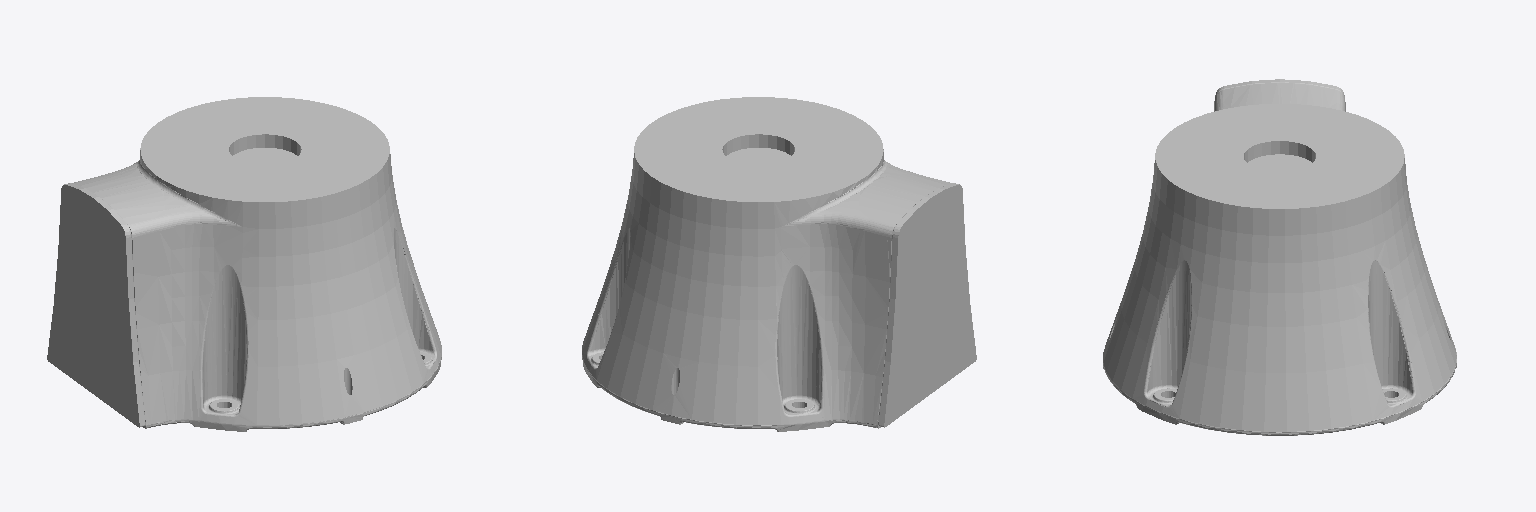
The picture shows the model from 3 angles: view 1: azimuth 30°, elevation 25°; view 2: azimuth 150°, elevation 25°; view 3: azimuth 270°, elevation 25°; orthographic projection.
Parts seen in each view (by area): view 1: ShapeIndexedFaceSet; view 2: ShapeIndexedFaceSet; view 3: ShapeIndexedFaceSet.
Part boxes in pixels (bbox=[...]): ShapeIndexedFaceSet: bbox=[47, 97, 441, 431]; ShapeIndexedFaceSet: bbox=[582, 97, 976, 431]; ShapeIndexedFaceSet: bbox=[1103, 79, 1456, 435].
Size of the model in its own units: 0.2575 by 0.1575 by 0.2426.